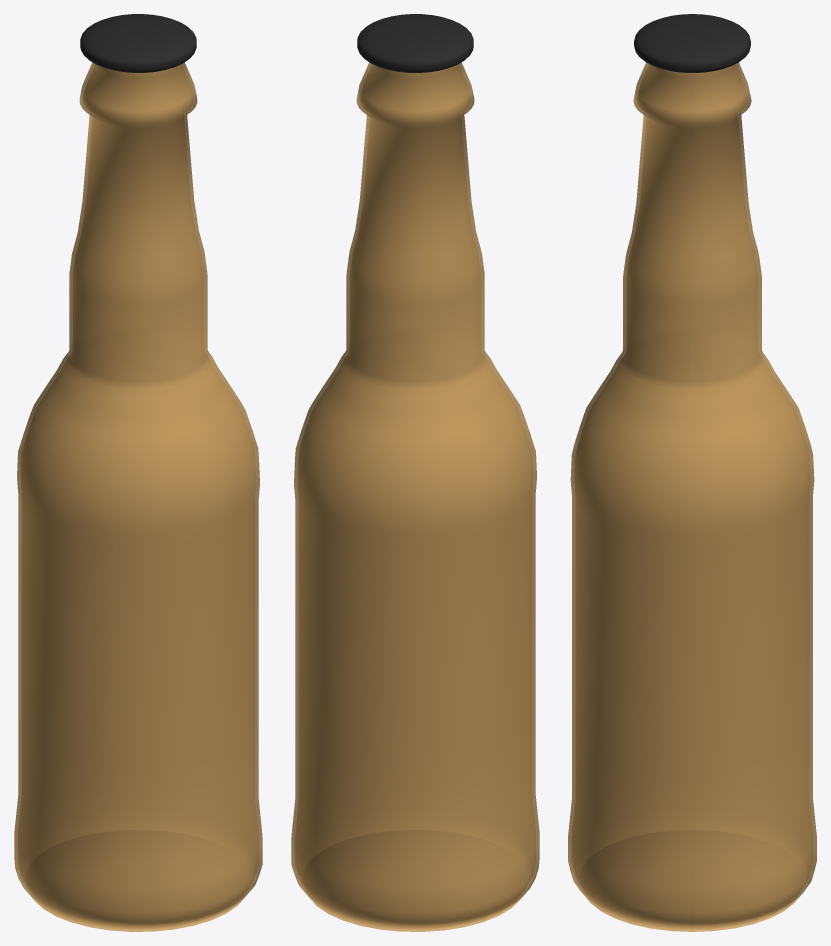
3 renders of one model, left to right at view 1: azimuth 30°, elevation 25°; view 2: azimuth 150°, elevation 25°; view 3: azimuth 270°, elevation 25°, orthographic.
Parts seen in each view (by area): view 1: Cylinder, Cylinder.001; view 2: Cylinder, Cylinder.001; view 3: Cylinder, Cylinder.001.
Boxes of the visible parts, x1=… form: Cylinder: x1=14, y1=62, x2=262, y2=931; Cylinder.001: x1=80, y1=14, x2=196, y2=72; Cylinder: x1=291, y1=62, x2=539, y2=931; Cylinder.001: x1=357, y1=14, x2=473, y2=72; Cylinder: x1=568, y1=62, x2=816, y2=931; Cylinder.001: x1=634, y1=14, x2=750, y2=72.
Bounding box in the file's own units: 2 × 7.62 × 2.
